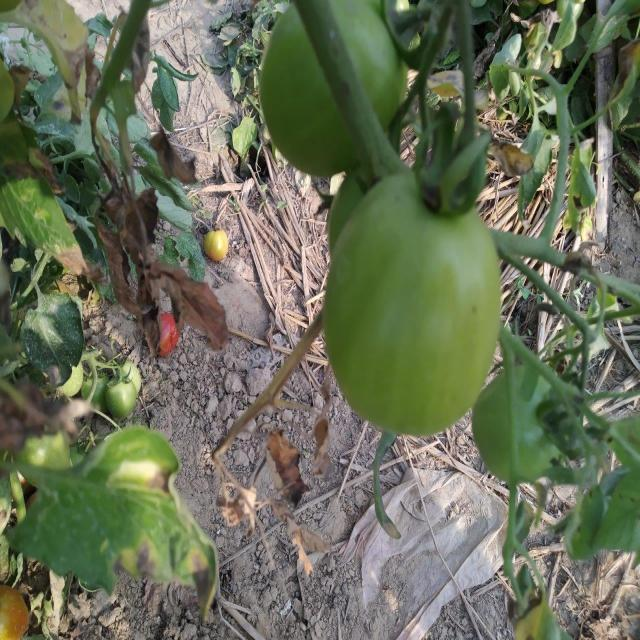Unripe: (326, 167, 501, 436)
